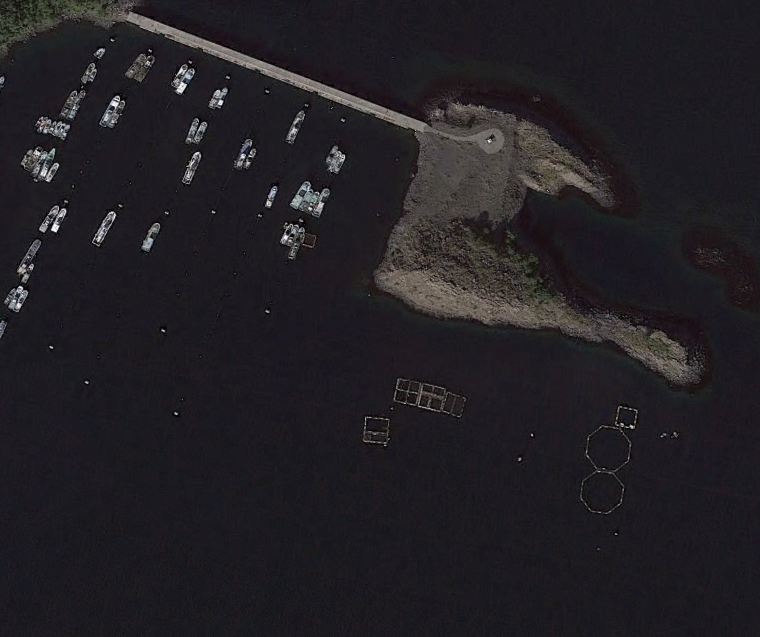octagon: (581, 420, 640, 476), (574, 465, 630, 519)
ship: (94, 213, 114, 245), (288, 108, 304, 143), (181, 153, 199, 184), (19, 244, 36, 276), (101, 95, 117, 127), (170, 62, 188, 87), (136, 55, 152, 82), (178, 70, 194, 95), (41, 150, 54, 180), (111, 103, 124, 130), (42, 207, 56, 232), (294, 184, 308, 208), (313, 190, 325, 218), (145, 224, 158, 249), (70, 92, 82, 119), (61, 90, 73, 117), (239, 140, 251, 167), (129, 55, 142, 75), (53, 209, 63, 233), (281, 224, 291, 245), (217, 88, 226, 111), (194, 122, 202, 145), (22, 266, 32, 284), (17, 292, 26, 312), (84, 64, 94, 82), (290, 227, 298, 248), (266, 184, 273, 206), (49, 162, 57, 181), (188, 118, 194, 143), (336, 155, 343, 172), (209, 91, 216, 107), (328, 145, 334, 161), (22, 150, 28, 166), (98, 46, 102, 56)
square: (356, 409, 395, 450), (391, 374, 425, 409), (415, 378, 446, 412), (613, 401, 639, 434), (440, 389, 469, 418)
